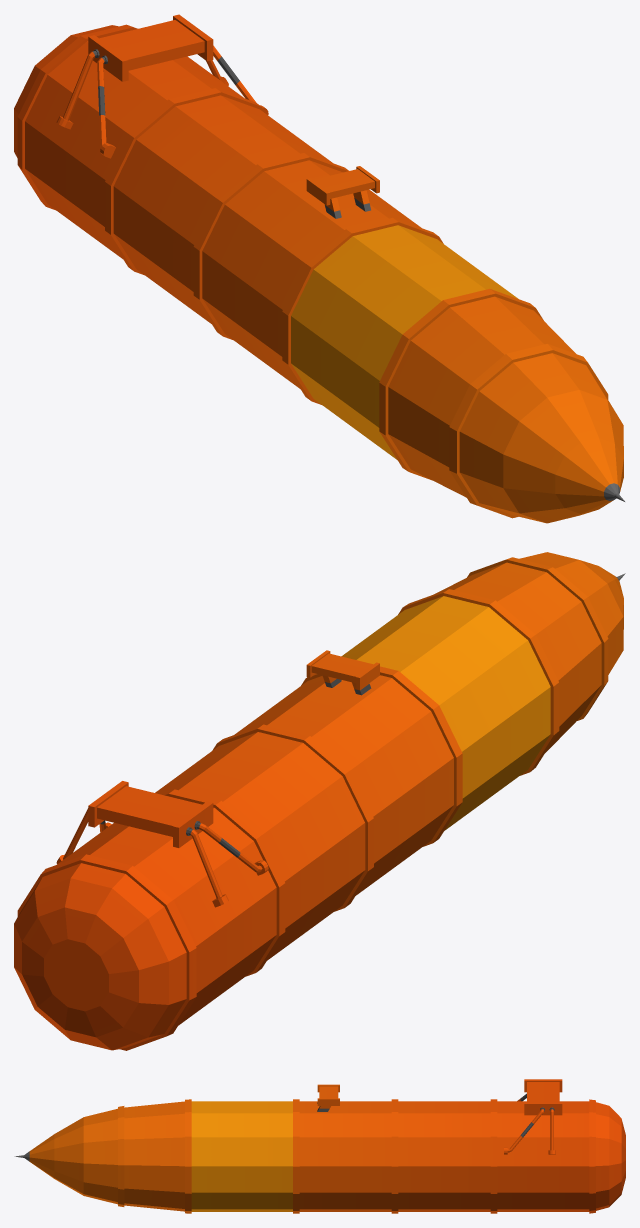
The model's file is external tank.fbx.
The picture shows the model from 3 angles, top to bottom: view 1: azimuth 30°, elevation 25°; view 2: azimuth 150°, elevation 25°; view 3: azimuth 270°, elevation 25°; orthographic projection. The views are drawn at different scales.
Visible parts, largest first — view 1: external tank; view 2: external tank; view 3: external tank.
Part boxes in pixels (left/top/right/bottom): external tank: left=14, top=14, right=624, bottom=523; external tank: left=14, top=552, right=625, bottom=1050; external tank: left=14, top=1079, right=625, bottom=1213.
Size of the model in its own units: 473 by 539 by 2584.
